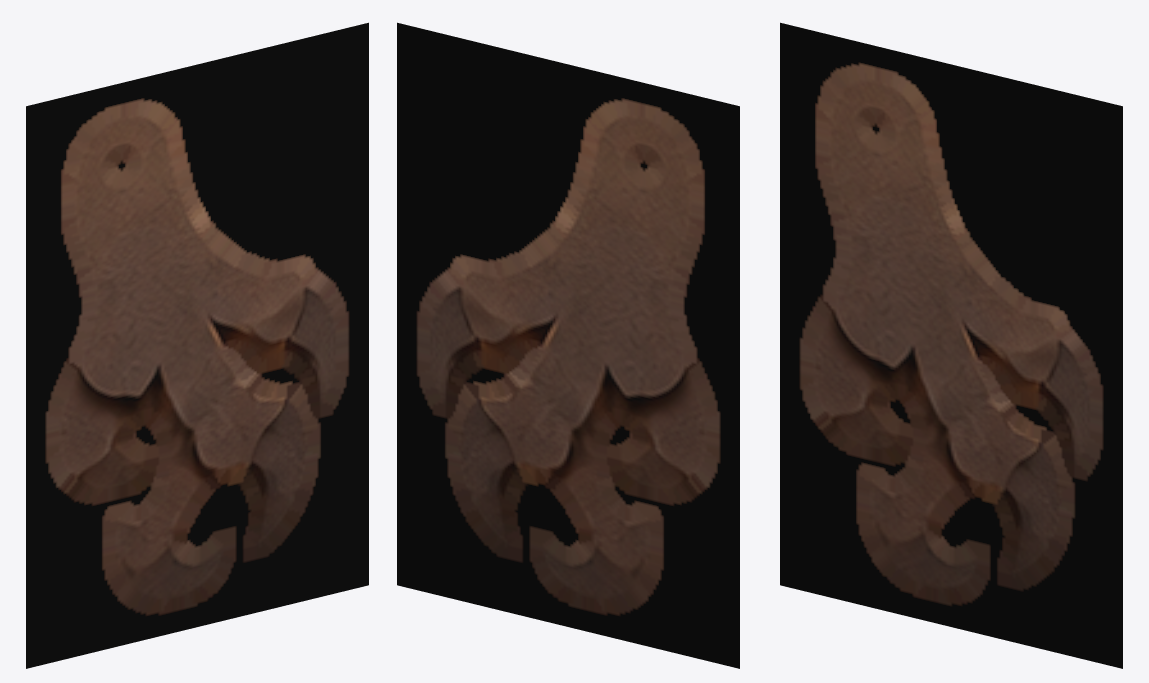
File: ClawLeft.glb
3 renders of one model, left to right at view 1: azimuth 30°, elevation 25°; view 2: azimuth 150°, elevation 25°; view 3: azimuth 330°, elevation 25°, orthographic.
Visible parts, largest first — view 1: PaperVolume; view 2: PaperVolume; view 3: PaperVolume.
Part boxes in pixels (left/top/right/bottom): PaperVolume: left=26, top=22, right=368, bottom=668; PaperVolume: left=397, top=22, right=739, bottom=668; PaperVolume: left=780, top=22, right=1122, bottom=668.
Bounding box in the file's own units: 1.34 × 2.1 × 0.08.
Materials: 3 (2 with a texture image).
